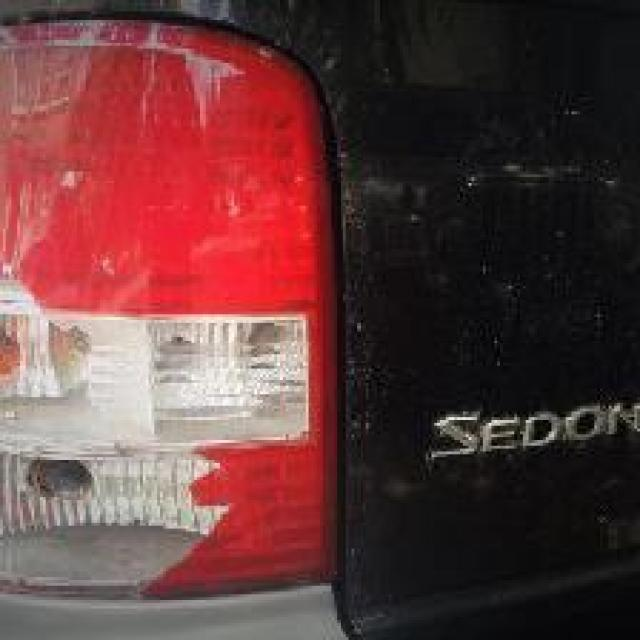damaged: (0, 277, 314, 597)
